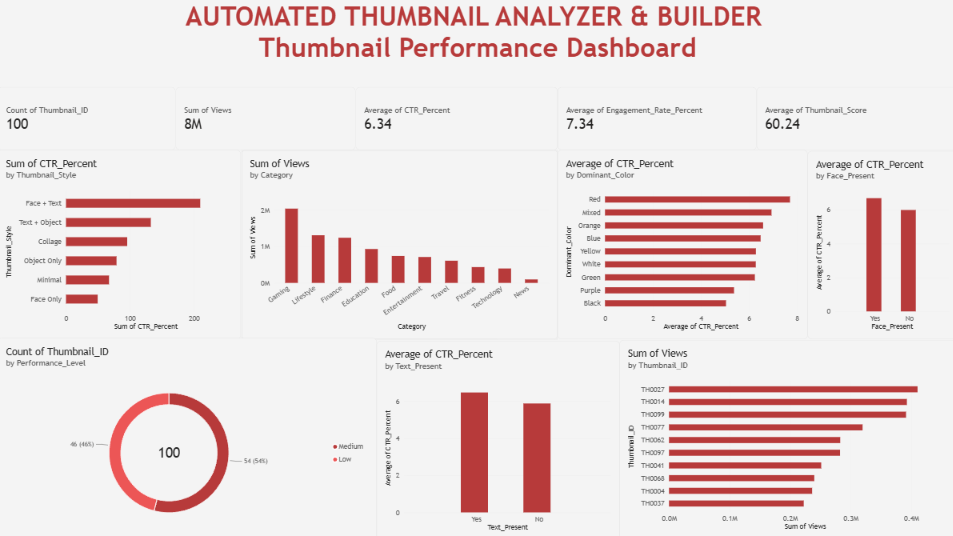

Layout of this report page (visuals, bound fields, positions):
{"tool":"powerbi","page":{"name":"Page 1","canvas":[1920,1080],"ordinal":0},"visuals":[{"type":"clusteredBarChart","fields":{"Category":["Thumbnail Dataset.Thumbnail_Style"],"Y":["Sum(Thumbnail Dataset.CTR_Percent)"]},"box":[0,300,486,378],"z":0},{"type":"clusteredColumnChart","fields":{"Category":["Thumbnail Dataset.Category"],"Y":["Sum(Thumbnail Dataset.Views)"]},"box":[488,300,632,378],"z":1000},{"type":"donutChart","fields":{"Category":["Thumbnail Dataset.Performance_Level"],"Y":["CountNonNull(Thumbnail Dataset.Thumbnail_ID)"]},"box":[0,676,758,402],"z":2000},{"type":"clusteredBarChart","fields":{"Category":["Thumbnail Dataset.Dominant_Color"],"Y":["Avg(Thumbnail Dataset.CTR_Percent)"]},"box":[1120,300,500,378],"z":3000},{"type":"clusteredColumnChart","fields":{"Category":["Thumbnail Dataset.Text_Present"],"Y":["Avg(Thumbnail Dataset.CTR_Percent)"]},"box":[758,682,486,398],"z":4000},{"type":"clusteredBarChart","fields":{"Category":["Thumbnail Dataset.Thumbnail_ID"],"Y":["Sum(Thumbnail Dataset.Views)"]},"box":[1244,680,676,398],"z":5000},{"type":"clusteredColumnChart","fields":{"Category":["Thumbnail Dataset.Face_Present"],"Y":["Avg(Thumbnail Dataset.CTR_Percent)"]},"box":[1620,302,300,376],"z":6000},{"type":"cardVisual","fields":{"Data":["CountNonNull(Thumbnail Dataset.Thumbnail_ID)"]},"box":[0,174,356,126],"z":7000},{"type":"cardVisual","fields":{"Data":["Sum(Thumbnail Dataset.Views)"]},"box":[356,174,360,126],"z":8000},{"type":"cardVisual","fields":{"Data":["Avg(Thumbnail Dataset.CTR_Percent)"]},"box":[716,174,404,126],"z":9000},{"type":"cardVisual","fields":{"Data":["Avg(Thumbnail Dataset.Engagement_Rate_Percent)"]},"box":[1120,174,398,126],"z":10000},{"type":"cardVisual","fields":{"Data":["Avg(Thumbnail Dataset.Thumbnail_Score)"]},"box":[1518,174,402,126],"z":11000},{"type":"textbox","box":[0,0,1920,200],"z":11001}]}

Visuals, with their boxes in screenshot pixels (x1, y1, x2, y2), scaled from the page's 1920x1080 canvas onto the 953x536 screenshot:
clusteredBarChart - Thumbnail Dataset.Thumbnail_Style x Sum(Thumbnail Dataset.CTR_Percent): <region>0, 149, 241, 336</region>
clusteredColumnChart - Thumbnail Dataset.Category x Sum(Thumbnail Dataset.Views): <region>242, 149, 556, 336</region>
donutChart - Thumbnail Dataset.Performance_Level x CountNonNull(Thumbnail Dataset.Thumbnail_ID): <region>0, 335, 376, 535</region>
clusteredBarChart - Thumbnail Dataset.Dominant_Color x Avg(Thumbnail Dataset.CTR_Percent): <region>556, 149, 804, 336</region>
clusteredColumnChart - Thumbnail Dataset.Text_Present x Avg(Thumbnail Dataset.CTR_Percent): <region>376, 338, 617, 535</region>
clusteredBarChart - Thumbnail Dataset.Thumbnail_ID x Sum(Thumbnail Dataset.Views): <region>617, 337, 952, 535</region>
clusteredColumnChart - Thumbnail Dataset.Face_Present x Avg(Thumbnail Dataset.CTR_Percent): <region>804, 150, 952, 336</region>
cardVisual - CountNonNull(Thumbnail Dataset.Thumbnail_ID): <region>0, 86, 177, 149</region>
cardVisual - Sum(Thumbnail Dataset.Views): <region>177, 86, 355, 149</region>
cardVisual - Avg(Thumbnail Dataset.CTR_Percent): <region>355, 86, 556, 149</region>
cardVisual - Avg(Thumbnail Dataset.Engagement_Rate_Percent): <region>556, 86, 753, 149</region>
cardVisual - Avg(Thumbnail Dataset.Thumbnail_Score): <region>753, 86, 952, 149</region>
textbox: <region>0, 0, 952, 99</region>
